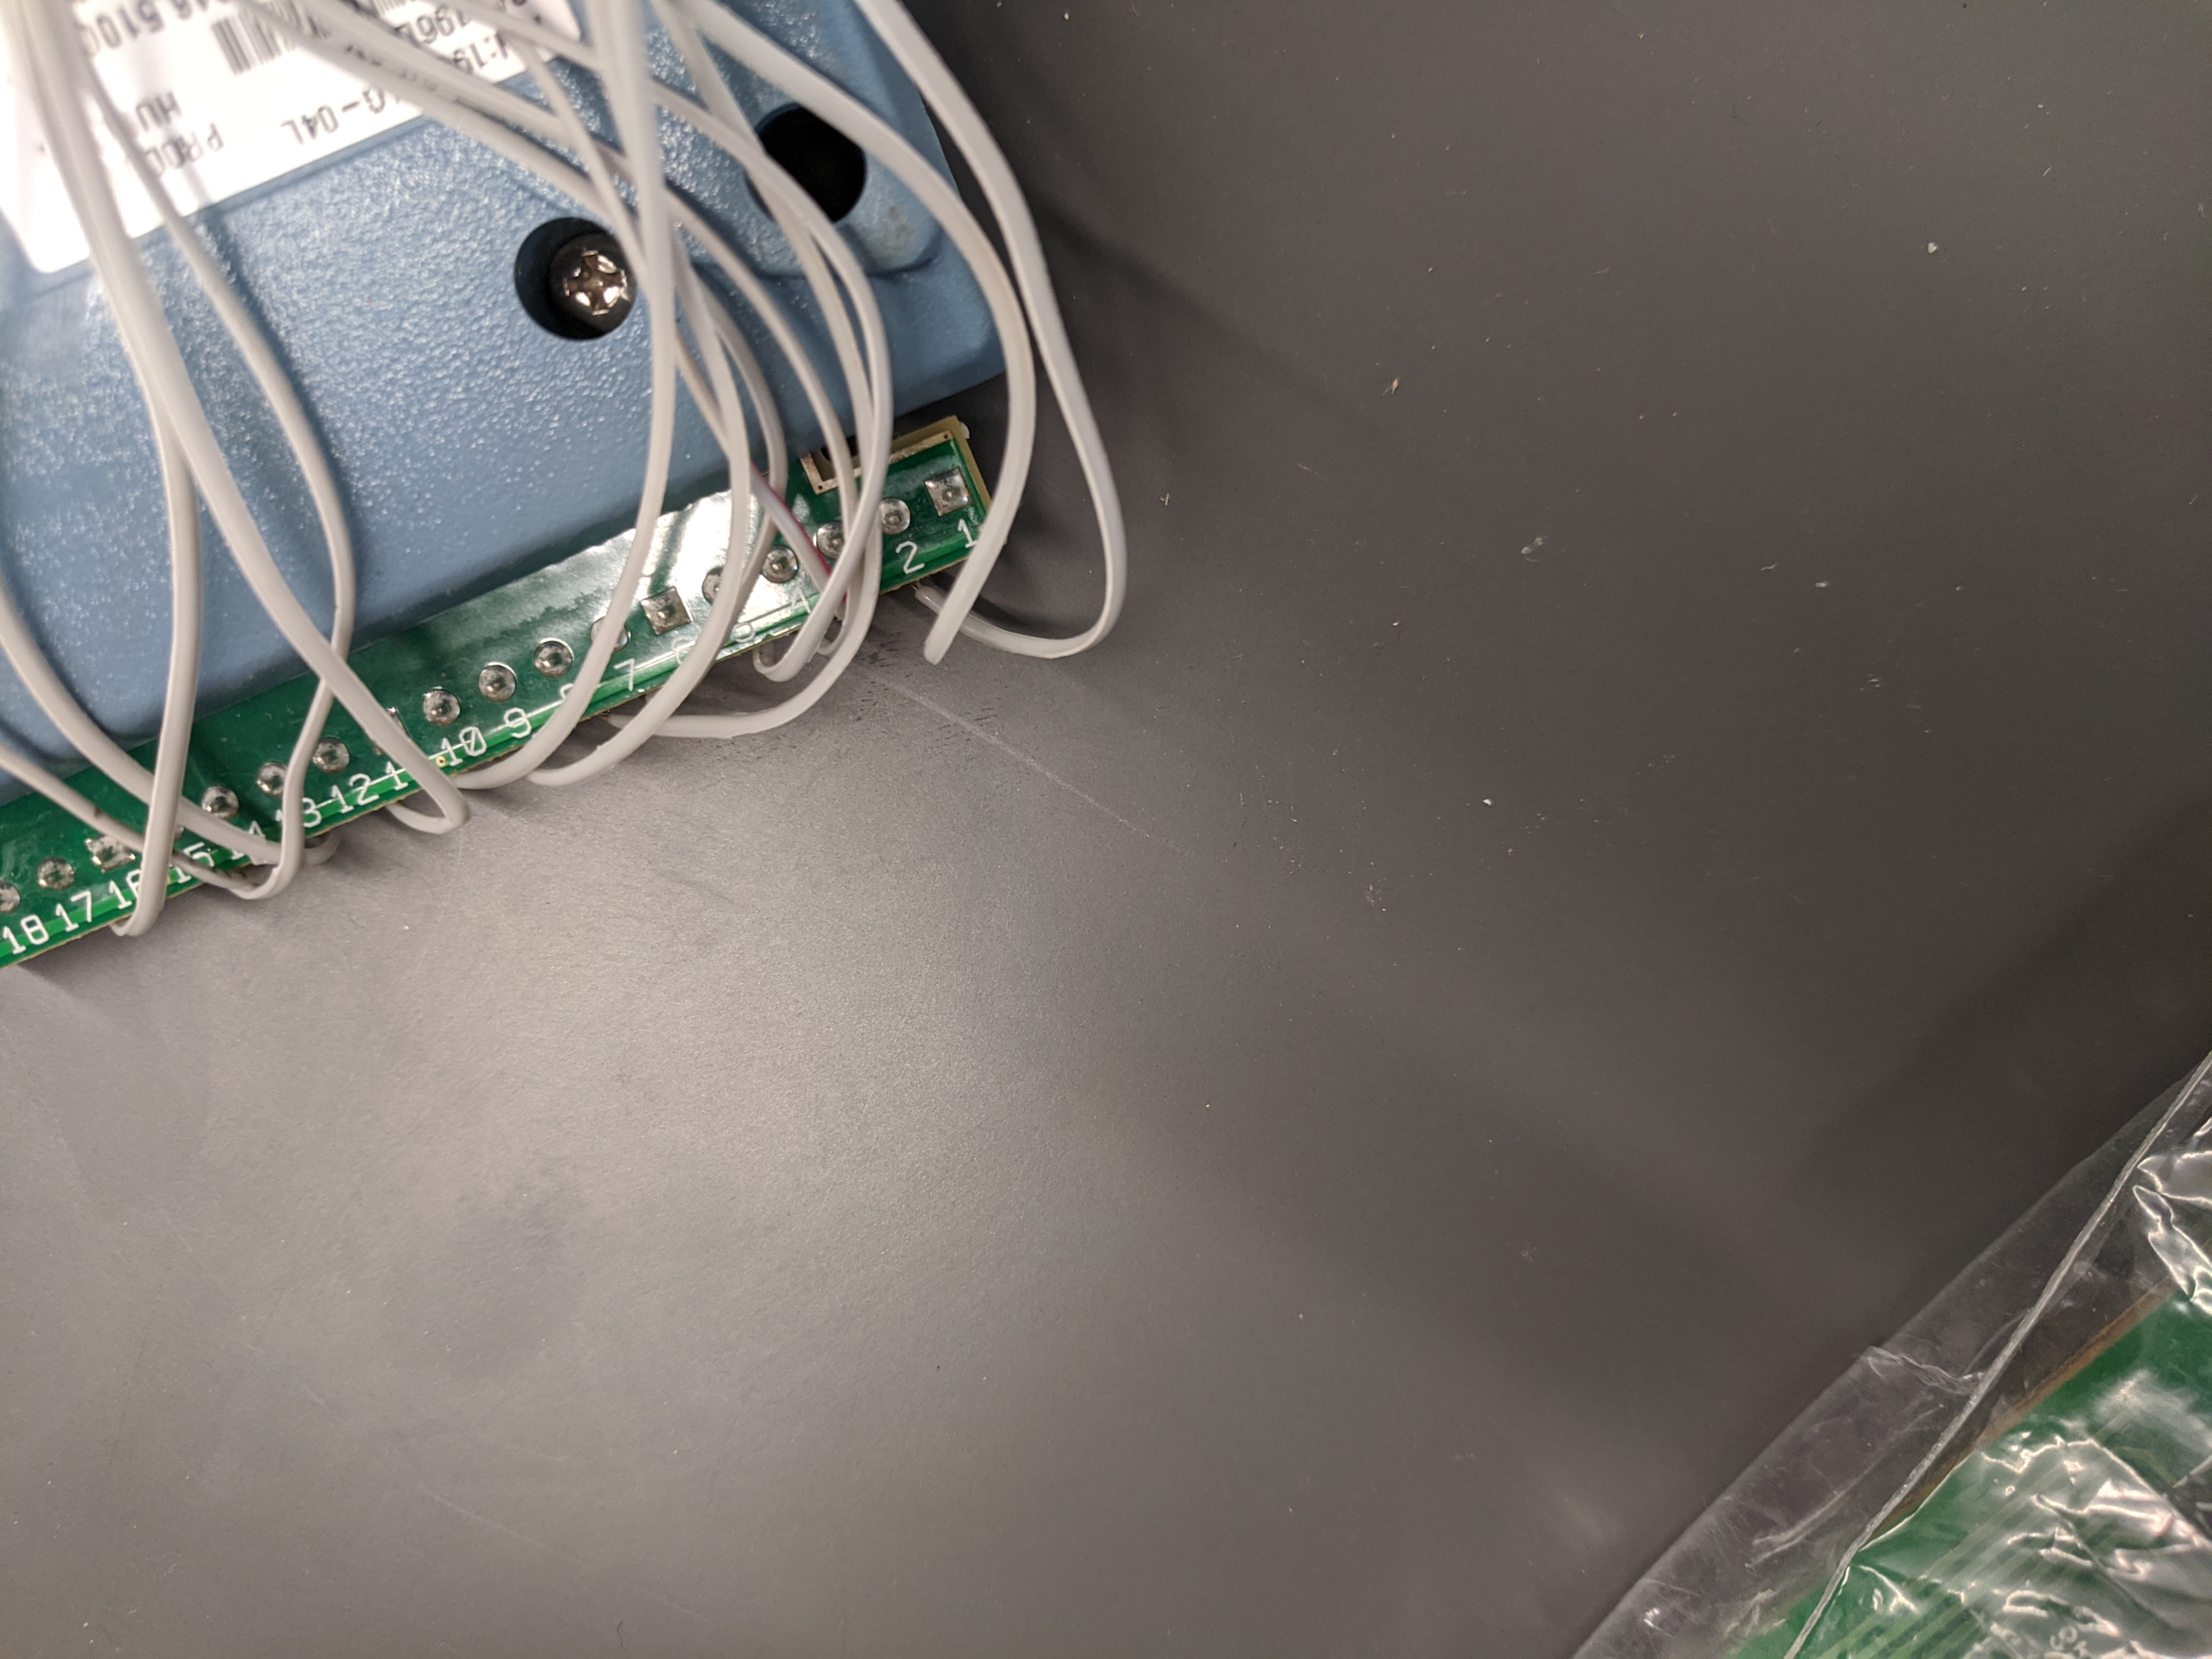cross_recessed_screw: (528, 227, 653, 333)
